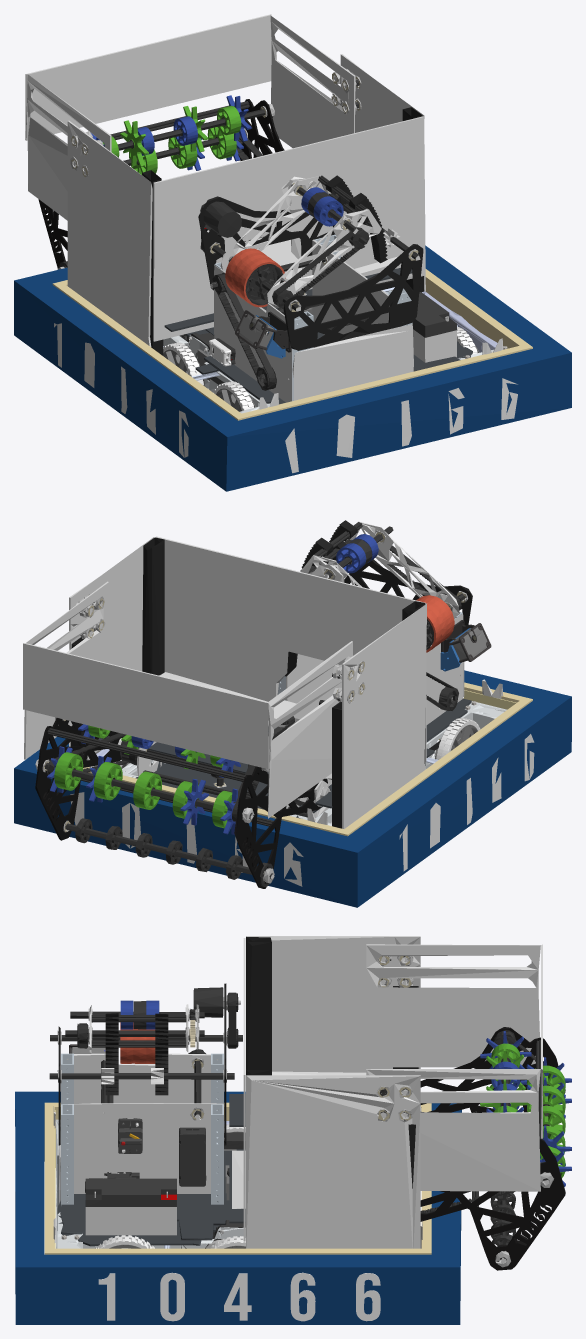
Rendered from federal-robot.glb.
The picture shows the model from 3 angles, top to bottom: view 1: azimuth 30°, elevation 25°; view 2: azimuth 150°, elevation 25°; view 3: azimuth 270°, elevation 25°; orthographic projection. The views are drawn at different scales.
Parts seen in each view (by area): view 1: 0.917647_0.917647_0.917647_0.000000_0.000000, 0.062745_0.266667_0.490196_0.000000_0.000000, 0.129412_0.129412_0.129412_0.000000_0.000000, 0.215686_0.215686_0.215686_0.000000_0.000000, 0.901961_0.901961_0.901961_0.000000_0.000000, 0.941176_0.874510_0.678431_0.000000_0.000000, 0.933333_0.933333_0.933333_0.000000_0.000000, 0.349020_0.686275_0.192157_0.000000_0.000000, 0.200000_0.200000_0.200000_0.000000_0.000000, 0.200000_0.301961_0.639216_0.000000_0.000000, 0.262745_0.282353_0.301961_0.000000_0.000000, 0.078431_0.074510_0.074510_0.000000_0.000000 (+9 smaller); view 2: 0.917647_0.917647_0.917647_0.000000_0.000000, 0.062745_0.266667_0.490196_0.000000_0.000000, 0.215686_0.215686_0.215686_0.000000_0.000000, 0.078431_0.074510_0.074510_0.000000_0.000000, 0.129412_0.129412_0.129412_0.000000_0.000000, 0.349020_0.686275_0.192157_0.000000_0.000000, 0.933333_0.933333_0.933333_0.000000_0.000000, 0.901961_0.901961_0.901961_0.000000_0.000000, 0.200000_0.301961_0.639216_0.000000_0.000000, 0.941176_0.874510_0.678431_0.000000_0.000000, 0.262745_0.282353_0.301961_0.000000_0.000000, 0.200000_0.200000_0.200000_0.000000_0.000000 (+8 smaller); view 3: 0.917647_0.917647_0.917647_0.000000_0.000000, 0.062745_0.266667_0.490196_0.000000_0.000000, 0.901961_0.901961_0.901961_0.000000_0.000000, 0.215686_0.215686_0.215686_0.000000_0.000000, 0.078431_0.074510_0.074510_0.000000_0.000000, 0.129412_0.129412_0.129412_0.000000_0.000000, 0.262745_0.282353_0.301961_0.000000_0.000000, 0.941176_0.874510_0.678431_0.000000_0.000000, 1.000000_1.000000_1.000000_0.000000_0.000000, 0.811765_0.858824_0.898039_0.000000_0.000000, 0.250980_0.250980_0.250980_0.000000_0.000000, 0.349020_0.686275_0.192157_0.000000_0.000000 (+9 smaller).
Part boxes in pixels (left/top/right/bottom): 0.917647_0.917647_0.917647_0.000000_0.000000: left=25, top=14, right=503, bottom=409; 0.062745_0.266667_0.490196_0.000000_0.000000: left=14, top=245, right=571, bottom=491; 0.129412_0.129412_0.129412_0.000000_0.000000: left=142, top=107, right=424, bottom=355; 0.215686_0.215686_0.215686_0.000000_0.000000: left=58, top=79, right=419, bottom=390; 0.901961_0.901961_0.901961_0.000000_0.000000: left=214, top=239, right=456, bottom=402; 0.941176_0.874510_0.678431_0.000000_0.000000: left=52, top=269, right=532, bottom=420; 0.933333_0.933333_0.933333_0.000000_0.000000: left=54, top=323, right=517, bottom=473; 0.349020_0.686275_0.192157_0.000000_0.000000: left=102, top=105, right=241, bottom=174; 0.200000_0.200000_0.200000_0.000000_0.000000: left=201, top=134, right=364, bottom=389; 0.200000_0.301961_0.639216_0.000000_0.000000: left=86, top=95, right=343, bottom=226; 0.262745_0.282353_0.301961_0.000000_0.000000: left=164, top=268, right=472, bottom=404; 0.078431_0.074510_0.074510_0.000000_0.000000: left=38, top=99, right=284, bottom=268; 0.917647_0.917647_0.917647_0.000000_0.000000: left=23, top=521, right=502, bottom=879; 0.062745_0.266667_0.490196_0.000000_0.000000: left=14, top=670, right=571, bottom=907; 0.215686_0.215686_0.215686_0.000000_0.000000: left=44, top=522, right=466, bottom=886; 0.078431_0.074510_0.074510_0.000000_0.000000: left=35, top=718, right=328, bottom=888; 0.129412_0.129412_0.129412_0.000000_0.000000: left=100, top=520, right=472, bottom=765; 0.349020_0.686275_0.192157_0.000000_0.000000: left=54, top=725, right=232, bottom=828; 0.933333_0.933333_0.933333_0.000000_0.000000: left=70, top=734, right=534, bottom=886; 0.901961_0.901961_0.901961_0.000000_0.000000: left=118, top=614, right=463, bottom=806; 0.200000_0.301961_0.639216_0.000000_0.000000: left=47, top=534, right=378, bottom=834; 0.941176_0.874510_0.678431_0.000000_0.000000: left=83, top=682, right=532, bottom=836; 0.262745_0.282353_0.301961_0.000000_0.000000: left=98, top=698, right=471, bottom=818; 0.200000_0.200000_0.200000_0.000000_0.000000: left=48, top=539, right=461, bottom=821; 0.917647_0.917647_0.917647_0.000000_0.000000: left=53, top=936, right=549, bottom=1263; 0.062745_0.266667_0.490196_0.000000_0.000000: left=15, top=1091, right=461, bottom=1324; 0.901961_0.901961_0.901961_0.000000_0.000000: left=66, top=1053, right=223, bottom=1235; 0.215686_0.215686_0.215686_0.000000_0.000000: left=49, top=956, right=549, bottom=1264; 0.078431_0.074510_0.074510_0.000000_0.000000: left=420, top=1027, right=565, bottom=1270; 0.129412_0.129412_0.129412_0.000000_0.000000: left=58, top=937, right=271, bottom=1145; 0.262745_0.282353_0.301961_0.000000_0.000000: left=57, top=1094, right=245, bottom=1246; 0.941176_0.874510_0.678431_0.000000_0.000000: left=44, top=1102, right=431, bottom=1254; 1.000000_1.000000_1.000000_0.000000_0.000000: left=95, top=1123, right=380, bottom=1321; 0.811765_0.858824_0.898039_0.000000_0.000000: left=61, top=1053, right=223, bottom=1205; 0.250980_0.250980_0.250980_0.000000_0.000000: left=85, top=1132, right=245, bottom=1237; 0.349020_0.686275_0.192157_0.000000_0.000000: left=480, top=1043, right=565, bottom=1178.
Bounding box in the file's own units: 0.8221 × 0.5327 × 1.1.
